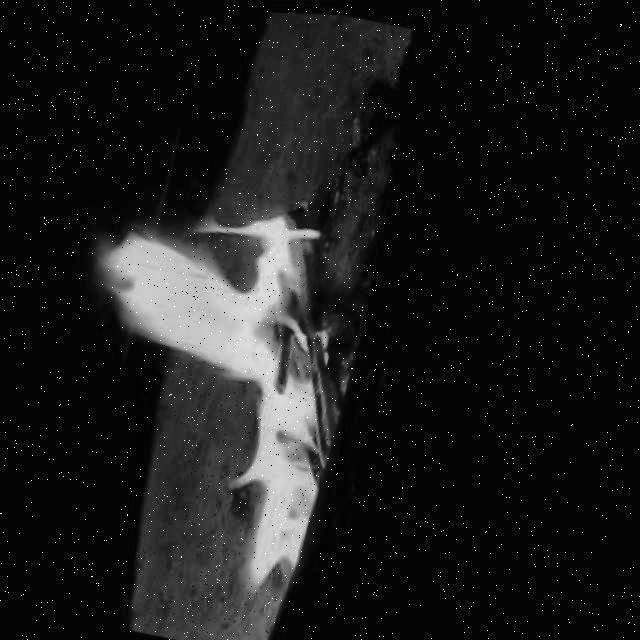Fire: (17, 152, 389, 576)
